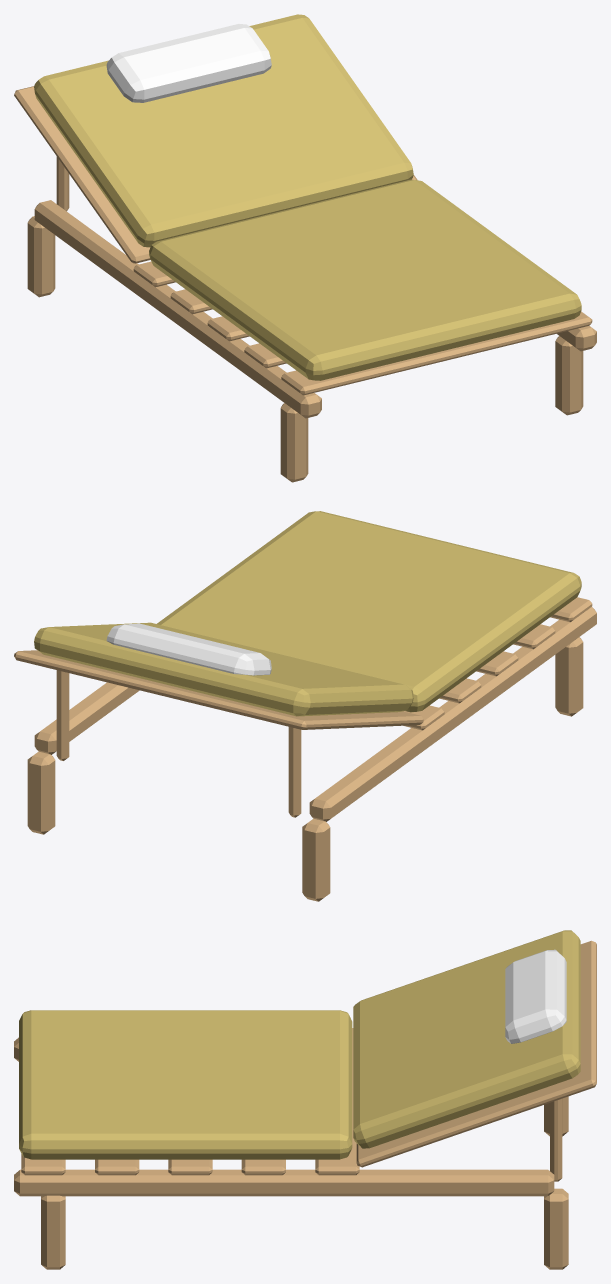
Rendered from sun_lounger.glb.
3 renders of one model, top to bottom at view 1: azimuth 30°, elevation 25°; view 2: azimuth 150°, elevation 25°; view 3: azimuth 270°, elevation 25°, orthographic.
Parts seen in each view (by area): view 1: sun_lounger_Body; view 2: sun_lounger_Body; view 3: sun_lounger_Body.
Part boxes in pixels (x1,y1,x2,y2): sun_lounger_Body: (14,14,596,482); sun_lounger_Body: (14,511,596,901); sun_lounger_Body: (14,930,596,1269).
Bounding box in the file's own units: 0.7 × 0.5 × 1.2.
